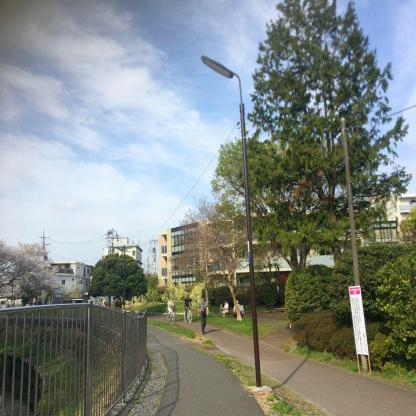Someiyoshino: (0, 230, 66, 304)
